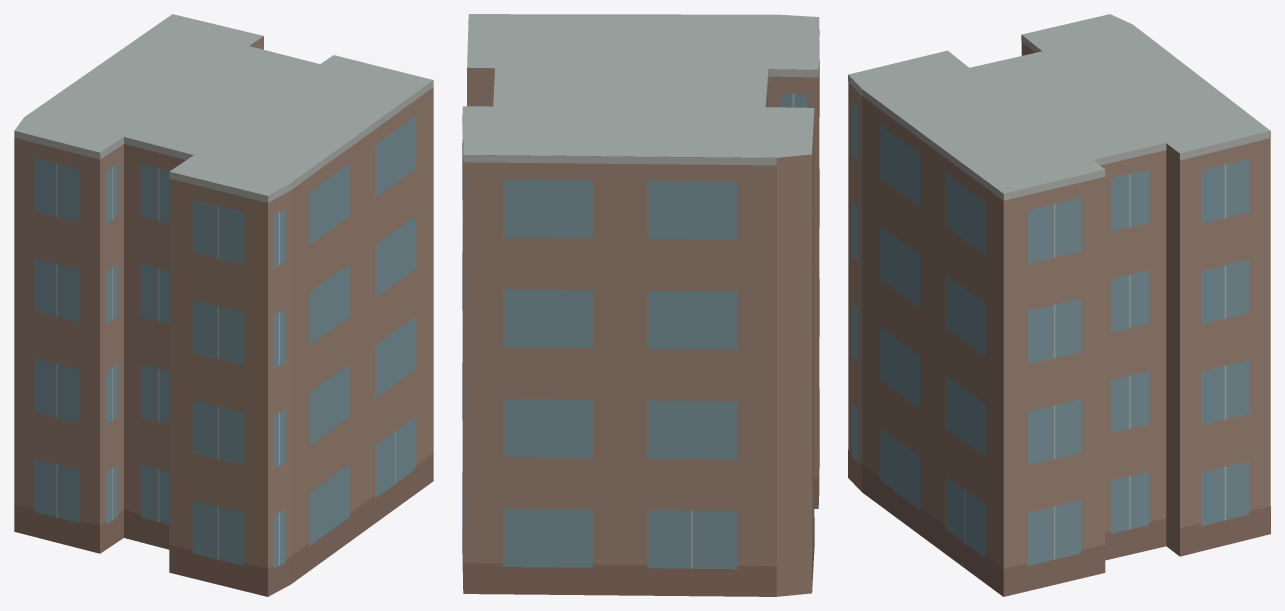
File: survey-upis-32602073.glb
3 renders of one model, left to right at view 1: azimuth 30°, elevation 25°; view 2: azimuth 150°, elevation 25°; view 3: azimuth 270°, elevation 25°, orthographic. The views are drawn at different scales.
Visible parts, largest first — view 1: survey-upis-32602073.tmp; view 2: survey-upis-32602073.tmp; view 3: survey-upis-32602073.tmp.
Part boxes in pixels (x1=…): survey-upis-32602073.tmp: x1=14, y1=14, x2=433, y2=596; survey-upis-32602073.tmp: x1=462, y1=14, x2=819, y2=596; survey-upis-32602073.tmp: x1=848, y1=14, x2=1270, y2=596.
Bounding box in the file's own units: 13.49 × 14.1 × 13.41.
